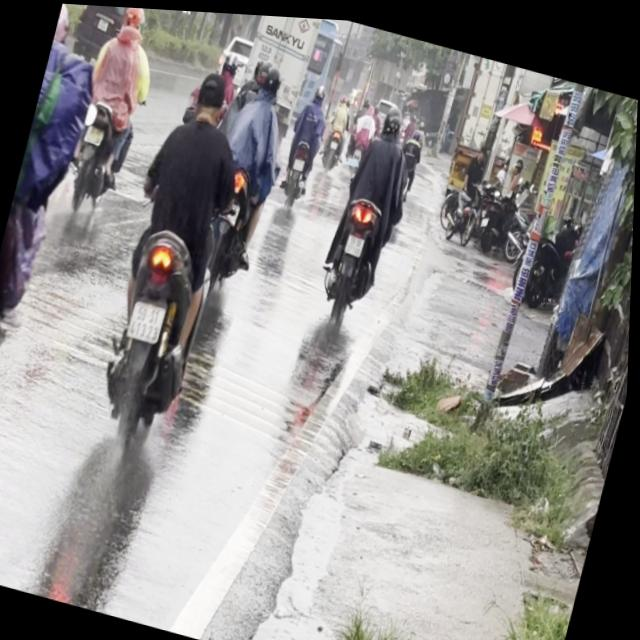helmet: (51, 2, 73, 43), (380, 95, 405, 131), (116, 5, 146, 34)
licenseplate: (77, 40, 270, 468), (0, 0, 112, 422), (308, 85, 425, 326), (55, 3, 166, 226)
motorcyclist: (189, 61, 230, 120)
nohelmet: (127, 295, 168, 340), (345, 227, 365, 251), (83, 122, 105, 142)
